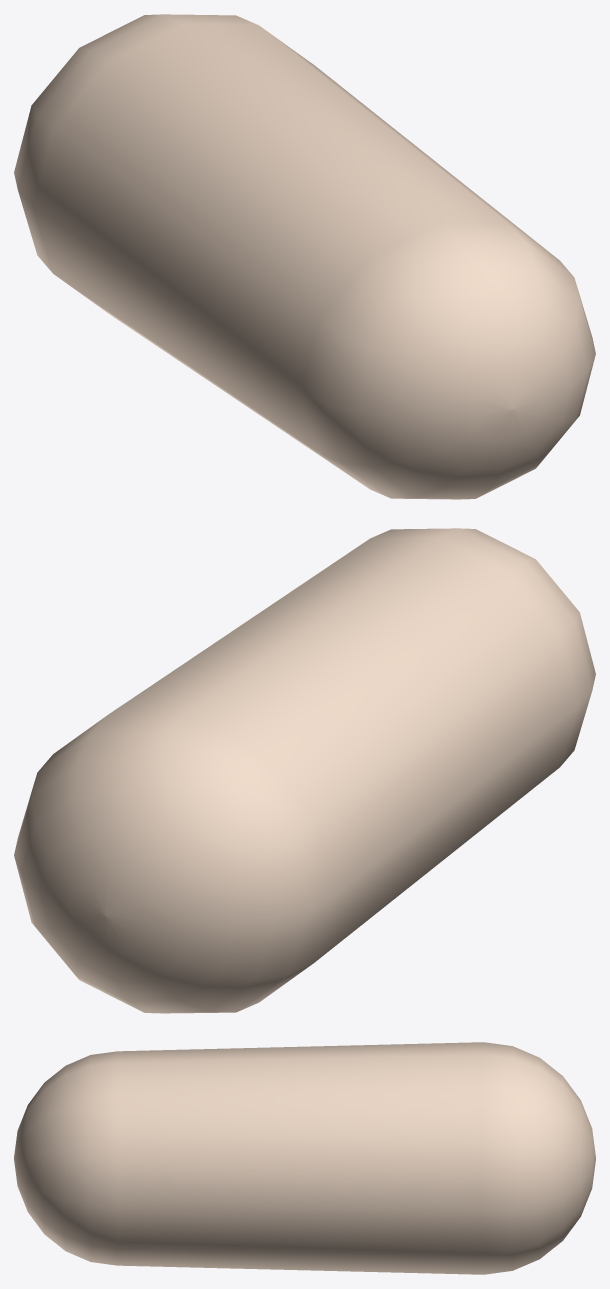
Rendered from finger_tip.fbx.
3 renders of one model, top to bottom at view 1: azimuth 30°, elevation 25°; view 2: azimuth 150°, elevation 25°; view 3: azimuth 270°, elevation 25°, orthographic. The views are drawn at different scales.
Visible parts, largest first — view 1: finger_tip; view 2: finger_tip; view 3: finger_tip.
Part boxes in pixels (bbox=[...]): finger_tip: bbox=[14, 14, 595, 499]; finger_tip: bbox=[14, 528, 595, 1013]; finger_tip: bbox=[14, 1042, 595, 1274].
Bounding box in the file's own units: 0.0204 × 0.0188 × 0.0476.
